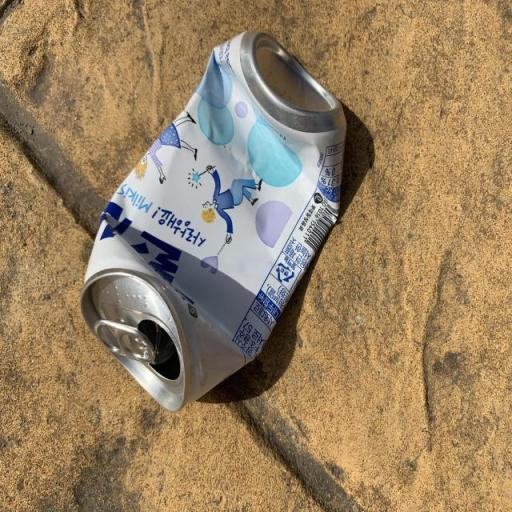metal: (68, 16, 361, 439)
